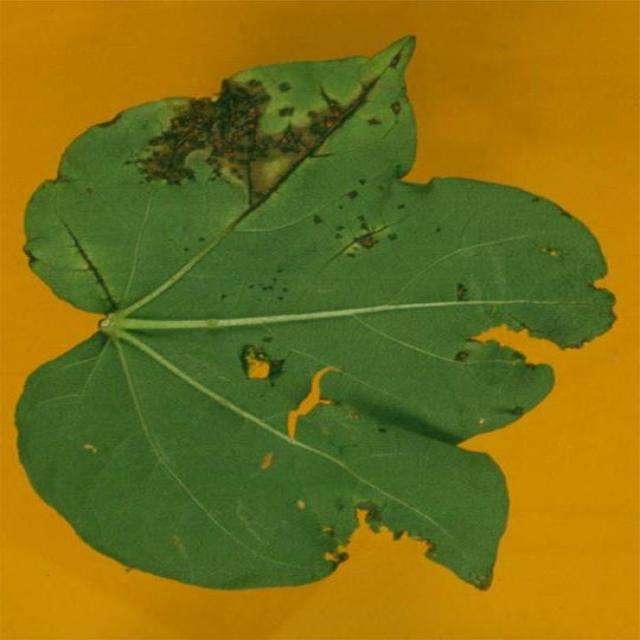Bacterial Blight: (141, 70, 354, 184)
